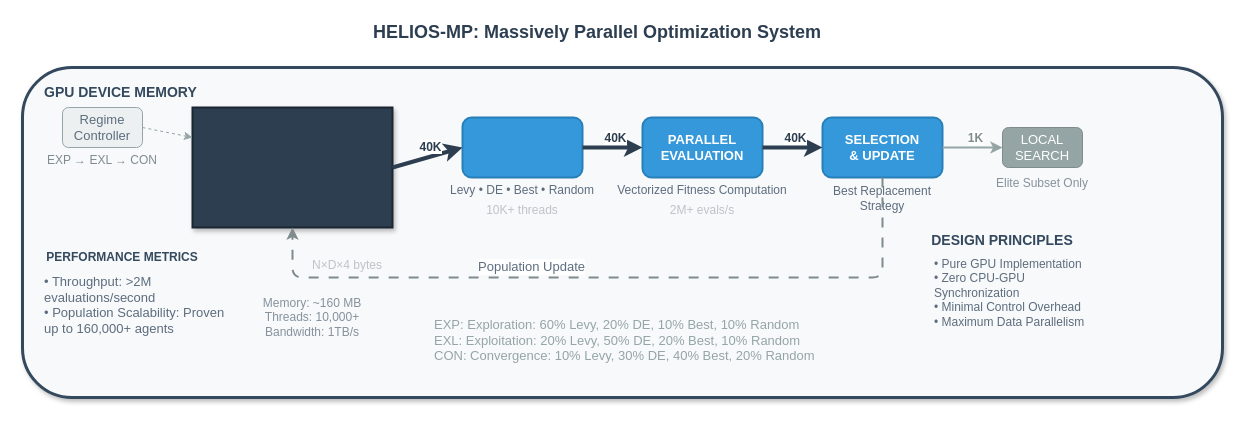
Image size: 1247x423. Some labels were removed from this diagram. The centre of each missing label's shape, as x and y in pixels:
"PARALLEL OPERATORS" goes at point (522, 147).
"POPULATION ARRAY 40,000+ Agents" goes at point (293, 168).
